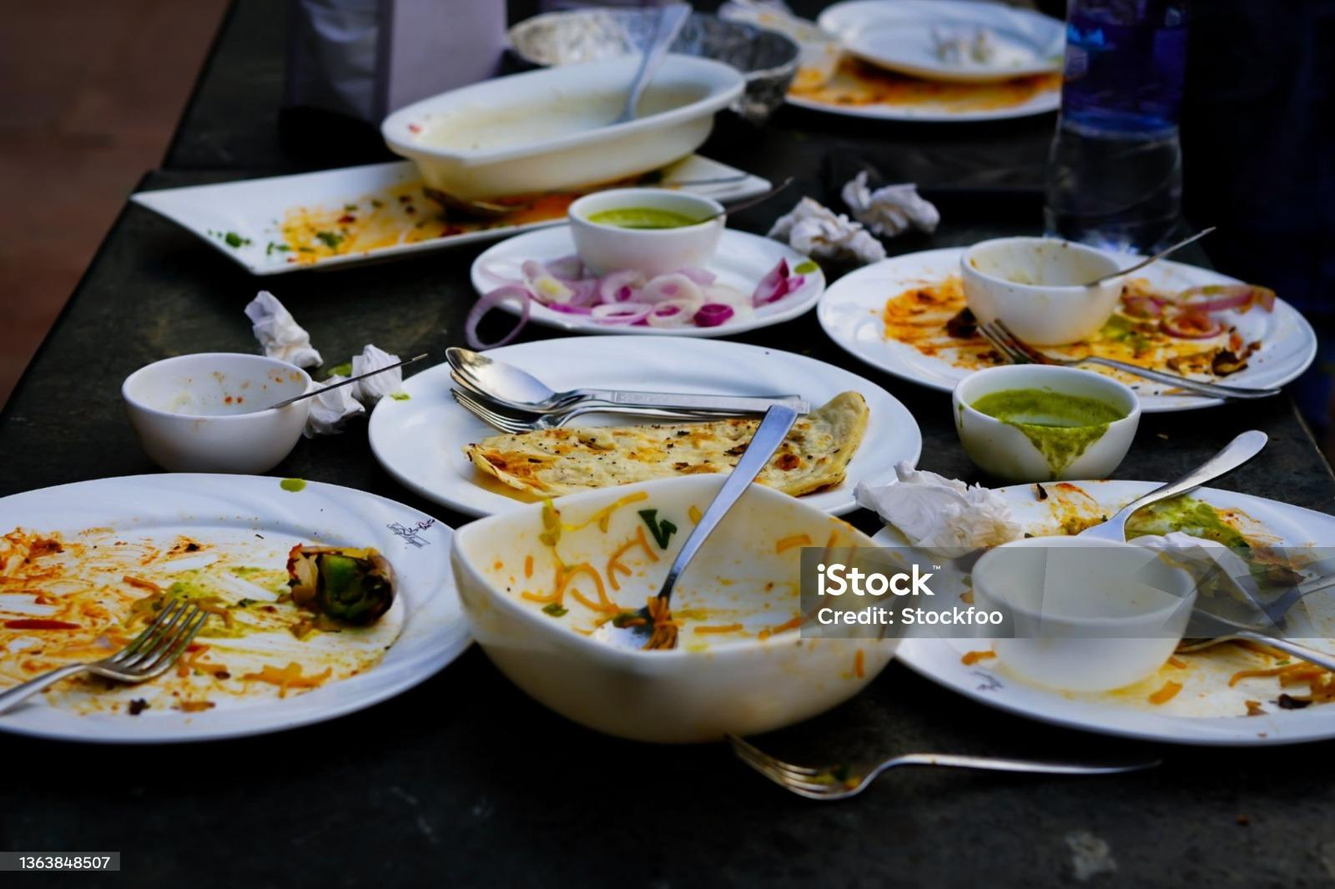Messy Table: (11, 4, 1335, 889)
